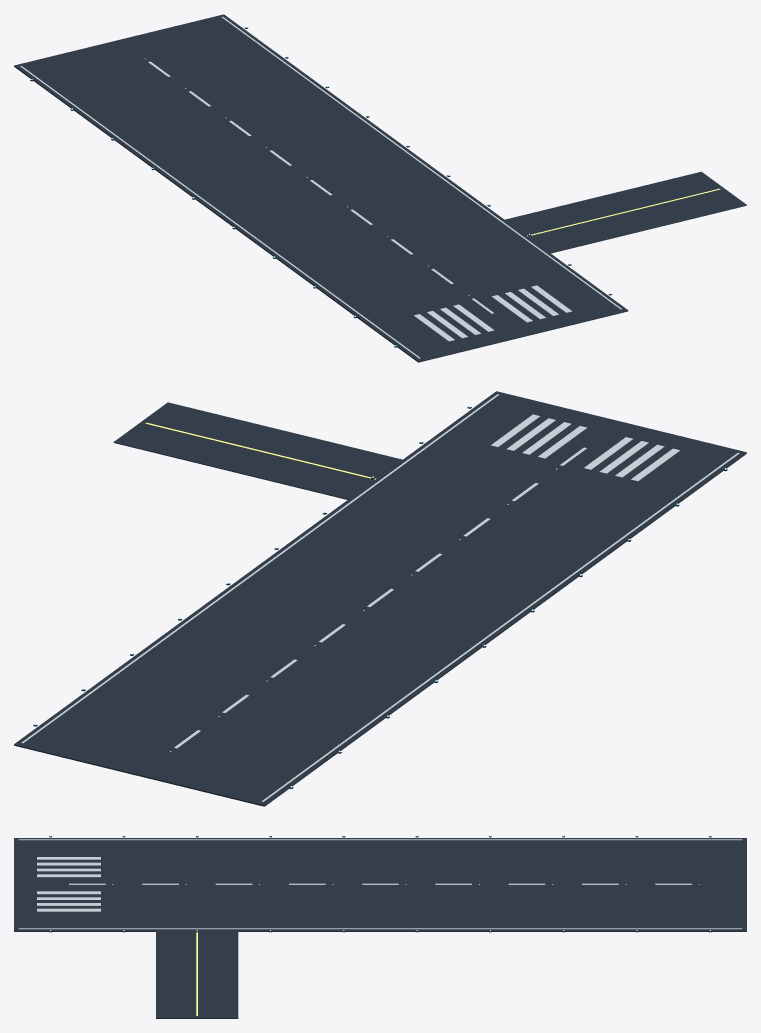
The model's file is runway.glb.
3 renders of one model, top to bottom at view 1: azimuth 30°, elevation 25°; view 2: azimuth 150°, elevation 25°; view 3: azimuth 270°, elevation 25°, orthographic. The views are drawn at different scales.
Parts seen in each view (by area): view 1: RunwaySurface, TaxiApronLink, RunwayEdgeStripe1, RunwayEdgeStripe-1; view 2: RunwaySurface, TaxiApronLink, RunwayEdgeStripe-1, RunwayEdgeStripe1; view 3: RunwaySurface, TaxiApronLink, RunwayEdgeStripe1, RunwayEdgeStripe-1.
Boxes of the visible parts, bbox=[...] form: RunwaySurface: bbox=[14, 14, 628, 362]; TaxiApronLink: bbox=[505, 171, 746, 253]; RunwayEdgeStripe1: bbox=[221, 17, 621, 309]; RunwayEdgeStripe-1: bbox=[20, 66, 420, 358]; RunwaySurface: bbox=[14, 391, 746, 806]; TaxiApronLink: bbox=[113, 402, 402, 499]; RunwayEdgeStripe-1: bbox=[261, 452, 739, 801]; RunwayEdgeStripe1: bbox=[21, 394, 499, 743]; RunwaySurface: bbox=[14, 838, 746, 931]; TaxiApronLink: bbox=[156, 931, 238, 1018]; RunwayEdgeStripe1: bbox=[18, 928, 742, 929]; RunwayEdgeStripe-1: bbox=[18, 839, 742, 840].
Bounding box in the file's own units: 46.9 × 0.365 × 80.
